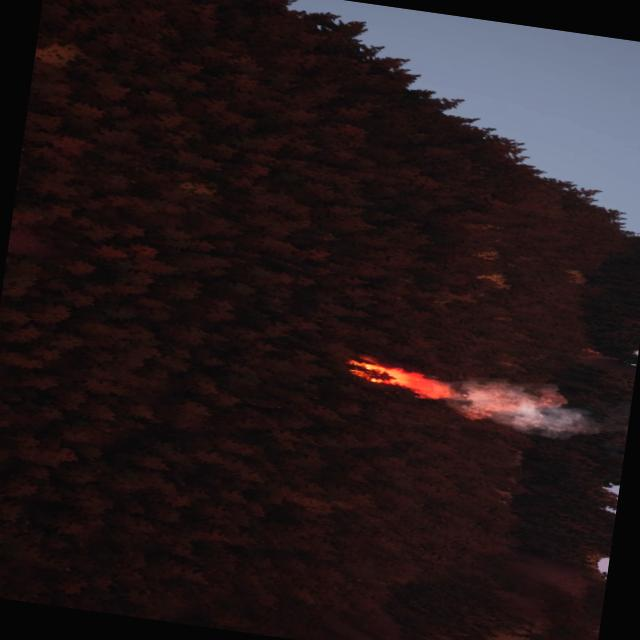fire: (347, 360, 445, 396)
smoke: (418, 369, 595, 443)
